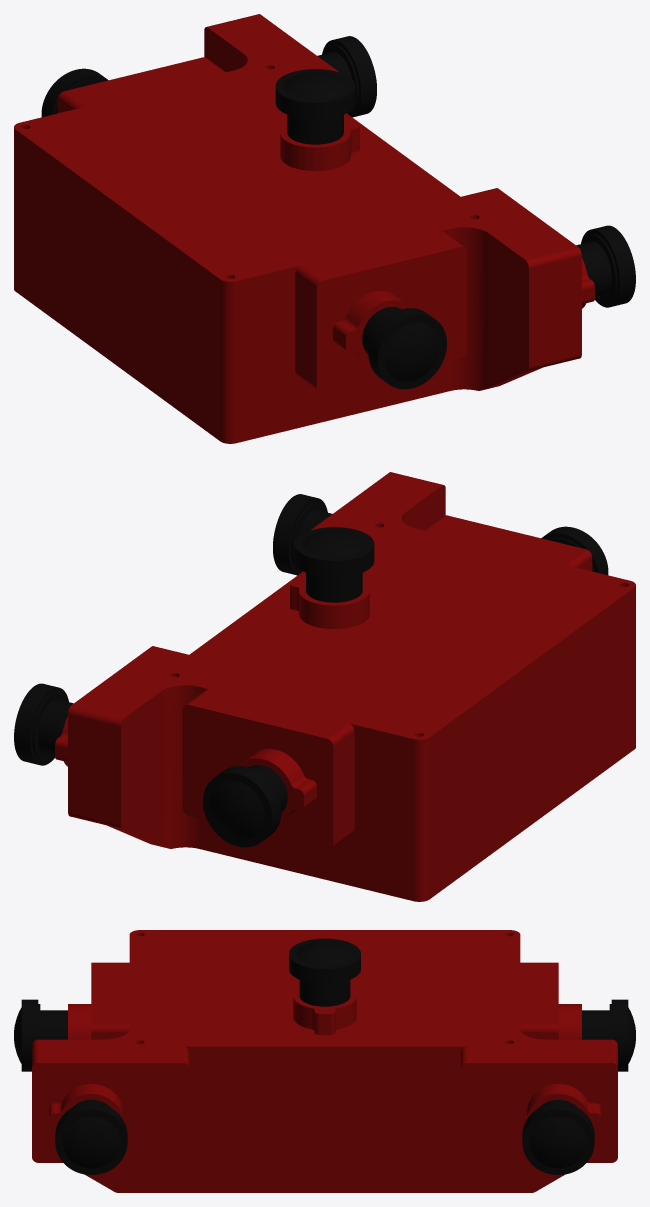
File: alphasense_simplified.dae
3 renders of one model, top to bottom at view 1: azimuth 30°, elevation 25°; view 2: azimuth 150°, elevation 25°; view 3: azimuth 270°, elevation 25°, orthographic. The views are drawn at different scales.
Visible parts, largest first — view 1: ID2; view 2: ID2; view 3: ID2.
Part boxes in pixels (x1,y1,x2,y2): ID2: [14, 14, 635, 443]; ID2: [14, 472, 635, 901]; ID2: [14, 930, 635, 1192].
Size of the model in its own units: 0.0922 by 0.1465 by 0.0562.
